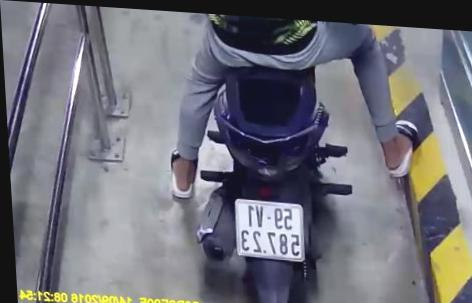License_Plate: (225, 195, 314, 264)
